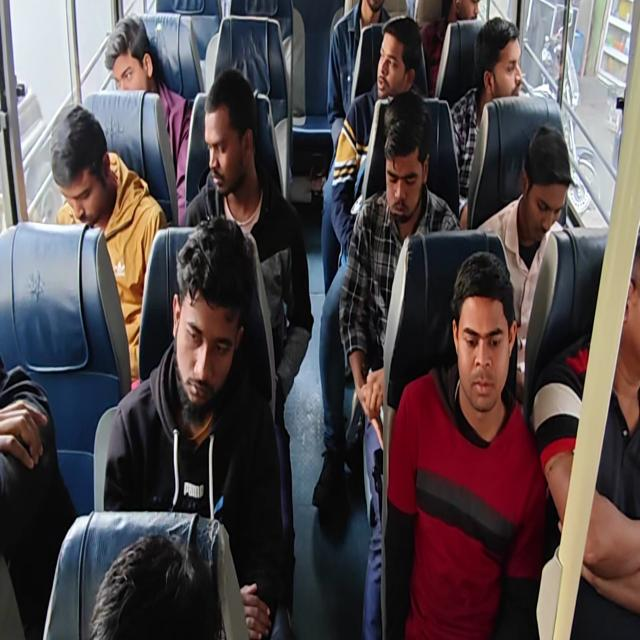person: (170, 208, 256, 442), (439, 248, 526, 441), (79, 529, 229, 640), (200, 66, 274, 208), (516, 125, 585, 253), (49, 98, 114, 220), (381, 90, 431, 247), (599, 211, 640, 386), (98, 9, 157, 102), (477, 17, 529, 108), (377, 15, 421, 94), (444, 0, 484, 24), (364, 0, 393, 23)
